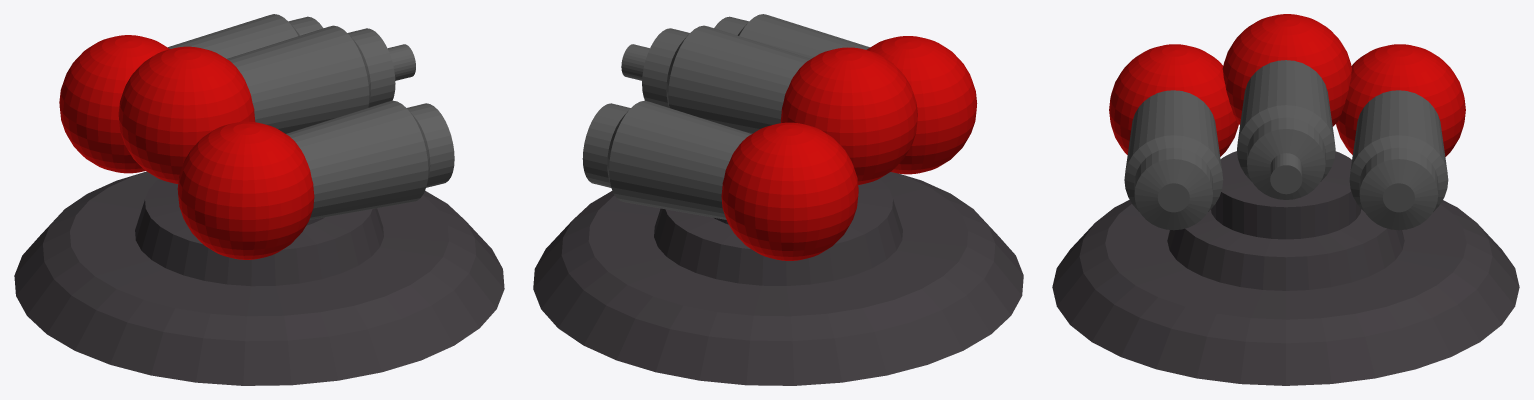
Rendered from flame_gun.obj.
3 renders of one model, left to right at view 1: azimuth 30°, elevation 25°; view 2: azimuth 150°, elevation 25°; view 3: azimuth 270°, elevation 25°, orthographic. The views are drawn at different scales.
Parts seen in each view (by area): view 1: Circle, Cylinder.001, Cylinder.003, Cylinder.002; view 2: Circle, Cylinder.002, Cylinder.003, Cylinder.001; view 3: Circle, Cylinder.003, Cylinder.002, Cylinder.001.
Part boxes in pixels (left/top/right/bottom): Circle: left=14, top=171, right=504, bottom=385; Cylinder.001: left=177, top=100, right=454, bottom=259; Cylinder.003: left=118, top=25, right=415, bottom=183; Cylinder.002: left=59, top=14, right=323, bottom=173; Circle: left=533, top=172, right=1023, bottom=385; Cylinder.002: left=582, top=100, right=858, bottom=260; Cylinder.003: left=621, top=25, right=917, bottom=184; Cylinder.001: left=714, top=14, right=977, bottom=174; Circle: left=1052, top=151, right=1519, bottom=385; Cylinder.003: left=1222, top=14, right=1351, bottom=199; Cylinder.002: left=1336, top=44, right=1465, bottom=230; Cylinder.001: left=1109, top=44, right=1238, bottom=230.
Bounding box in the file's own units: 11.68 × 6.46 × 11.68.
